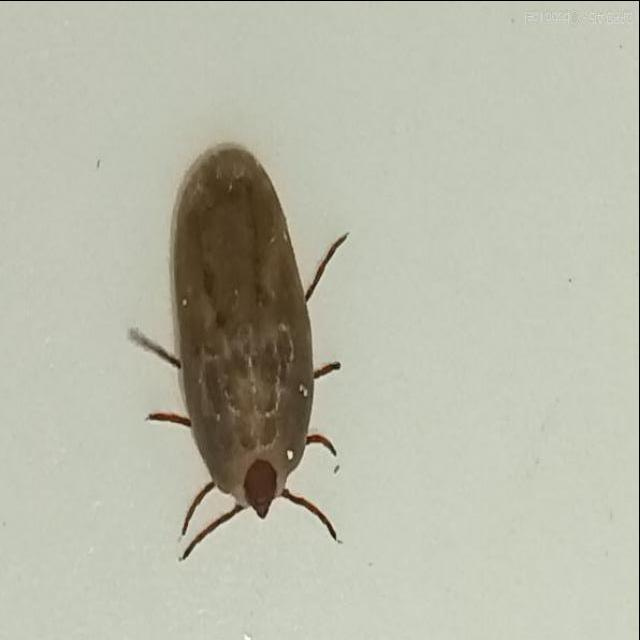Rhipicephalus Sanguineus-F-Fed: (128, 141, 350, 559)
